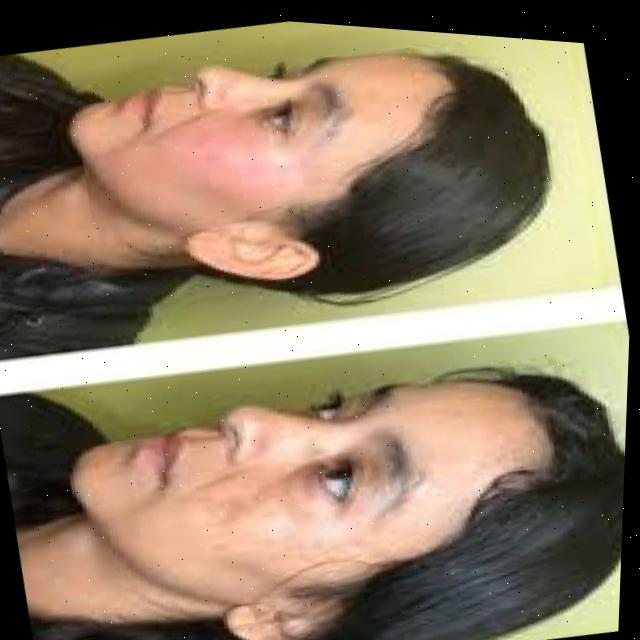Rosacea: (203, 485, 315, 576)
